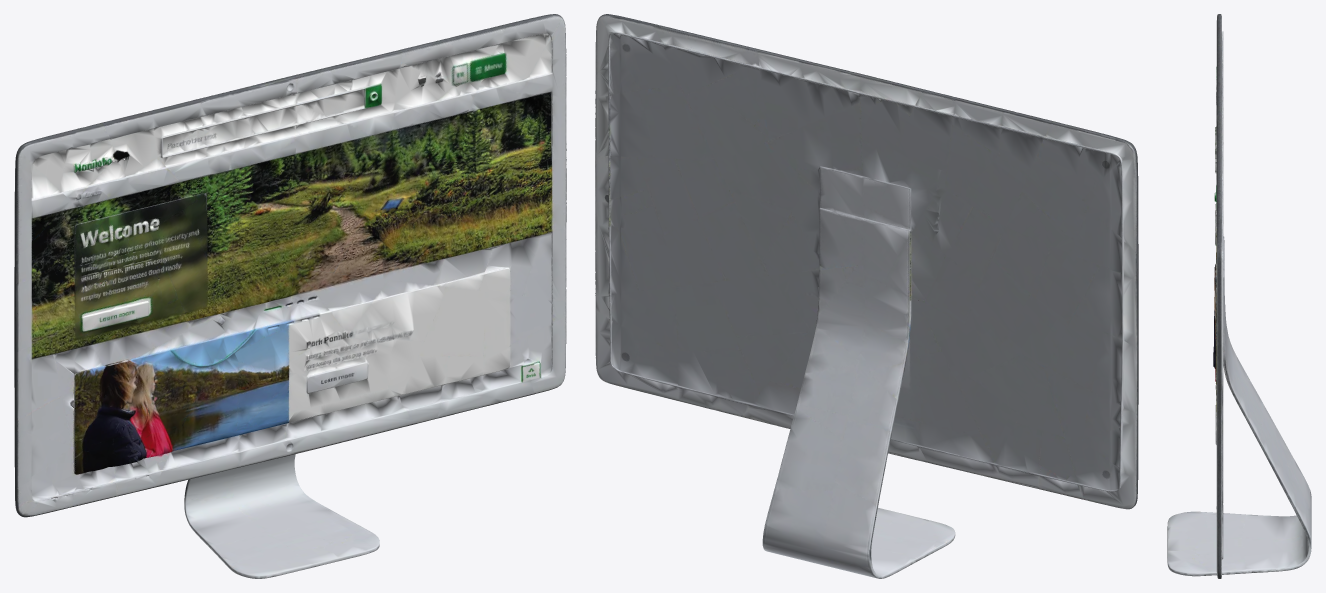
Rendered from manitoba-parks.glb.
The picture shows the model from 3 angles, left to right: view 1: azimuth 30°, elevation 25°; view 2: azimuth 150°, elevation 25°; view 3: azimuth 270°, elevation 25°; orthographic projection. The views are drawn at different scales.
Size of the model in its own units: 1.9 by 1.55 by 0.4835.
1 material, 1 textured.
